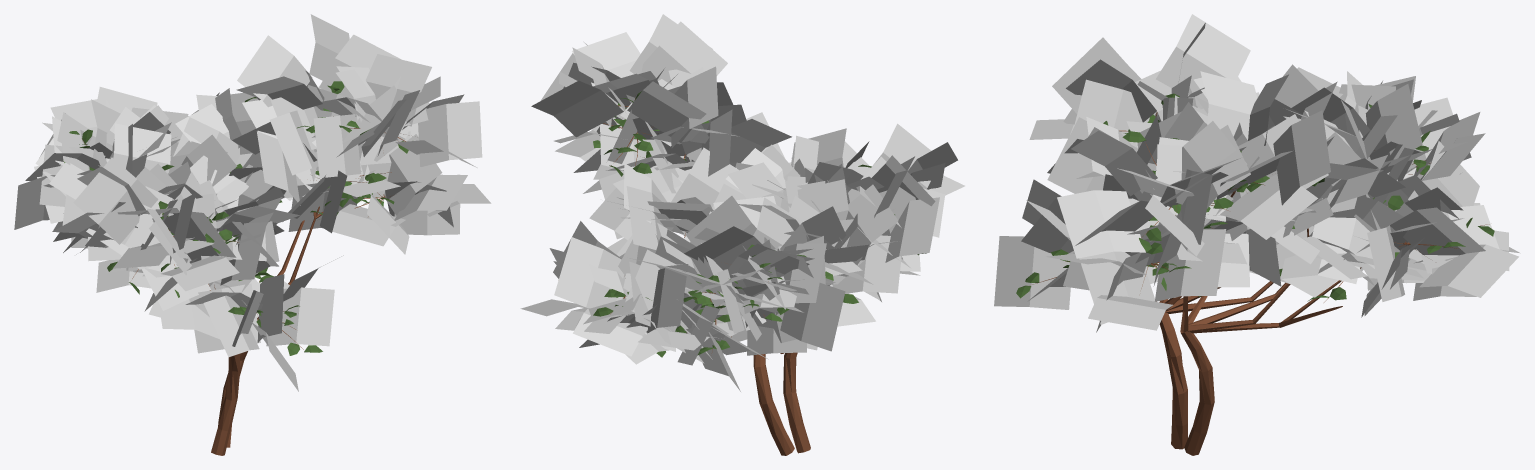
The model's file is Arbousier_Bifurque_LOD1.fbx.
3 views of the same model, side by side, from view 1: azimuth 30°, elevation 25°; view 2: azimuth 150°, elevation 25°; view 3: azimuth 270°, elevation 25° (orthographic). The views are drawn at different scales.
Visible parts, largest first — view 1: Arbousier_Bifurque_LOD1; view 2: Arbousier_Bifurque_LOD1; view 3: Arbousier_Bifurque_LOD1.
Part boxes in pixels (left/top/right/bottom): Arbousier_Bifurque_LOD1: left=14, top=14, right=491, bottom=455; Arbousier_Bifurque_LOD1: left=520, top=14, right=964, bottom=455; Arbousier_Bifurque_LOD1: left=994, top=14, right=1520, bottom=455.
Bounding box in the file's own units: 405 × 361 × 403.
